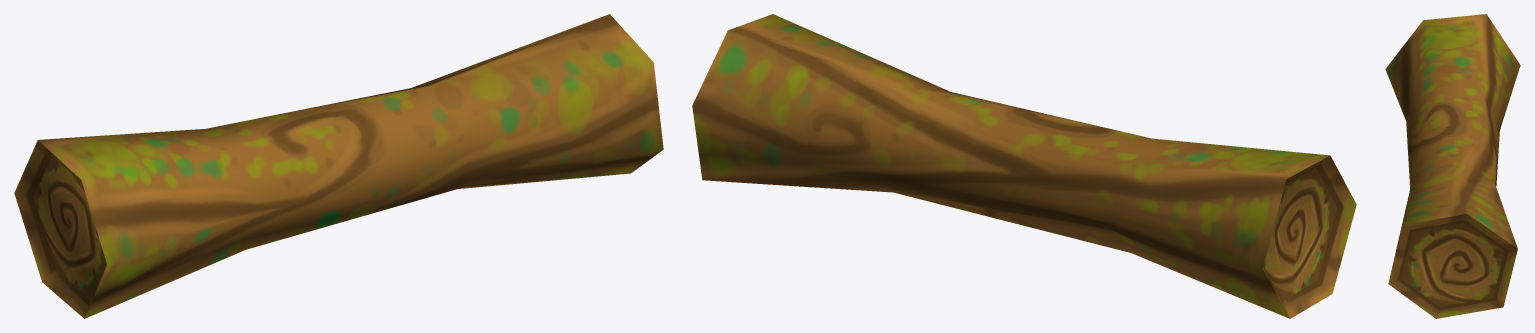
File: Log_Mossy.fbx
The picture shows the model from 3 angles, left to right: view 1: azimuth 30°, elevation 25°; view 2: azimuth 150°, elevation 25°; view 3: azimuth 270°, elevation 25°; orthographic projection. The views are drawn at different scales.
Parts seen in each view (by area): view 1: Log_Mossy; view 2: Log_Mossy; view 3: Log_Mossy.
Part boxes in pixels (left/top/right/bottom): Log_Mossy: left=14, top=14, right=663, bottom=318; Log_Mossy: left=692, top=14, right=1356, bottom=318; Log_Mossy: left=1385, top=14, right=1520, bottom=318.
Size of the model in its own units: 12.13 by 3.02 by 3.48.
